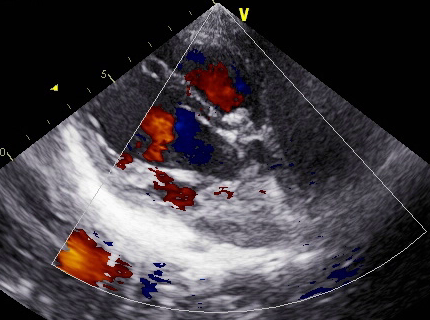AR: (142, 112, 208, 163)
